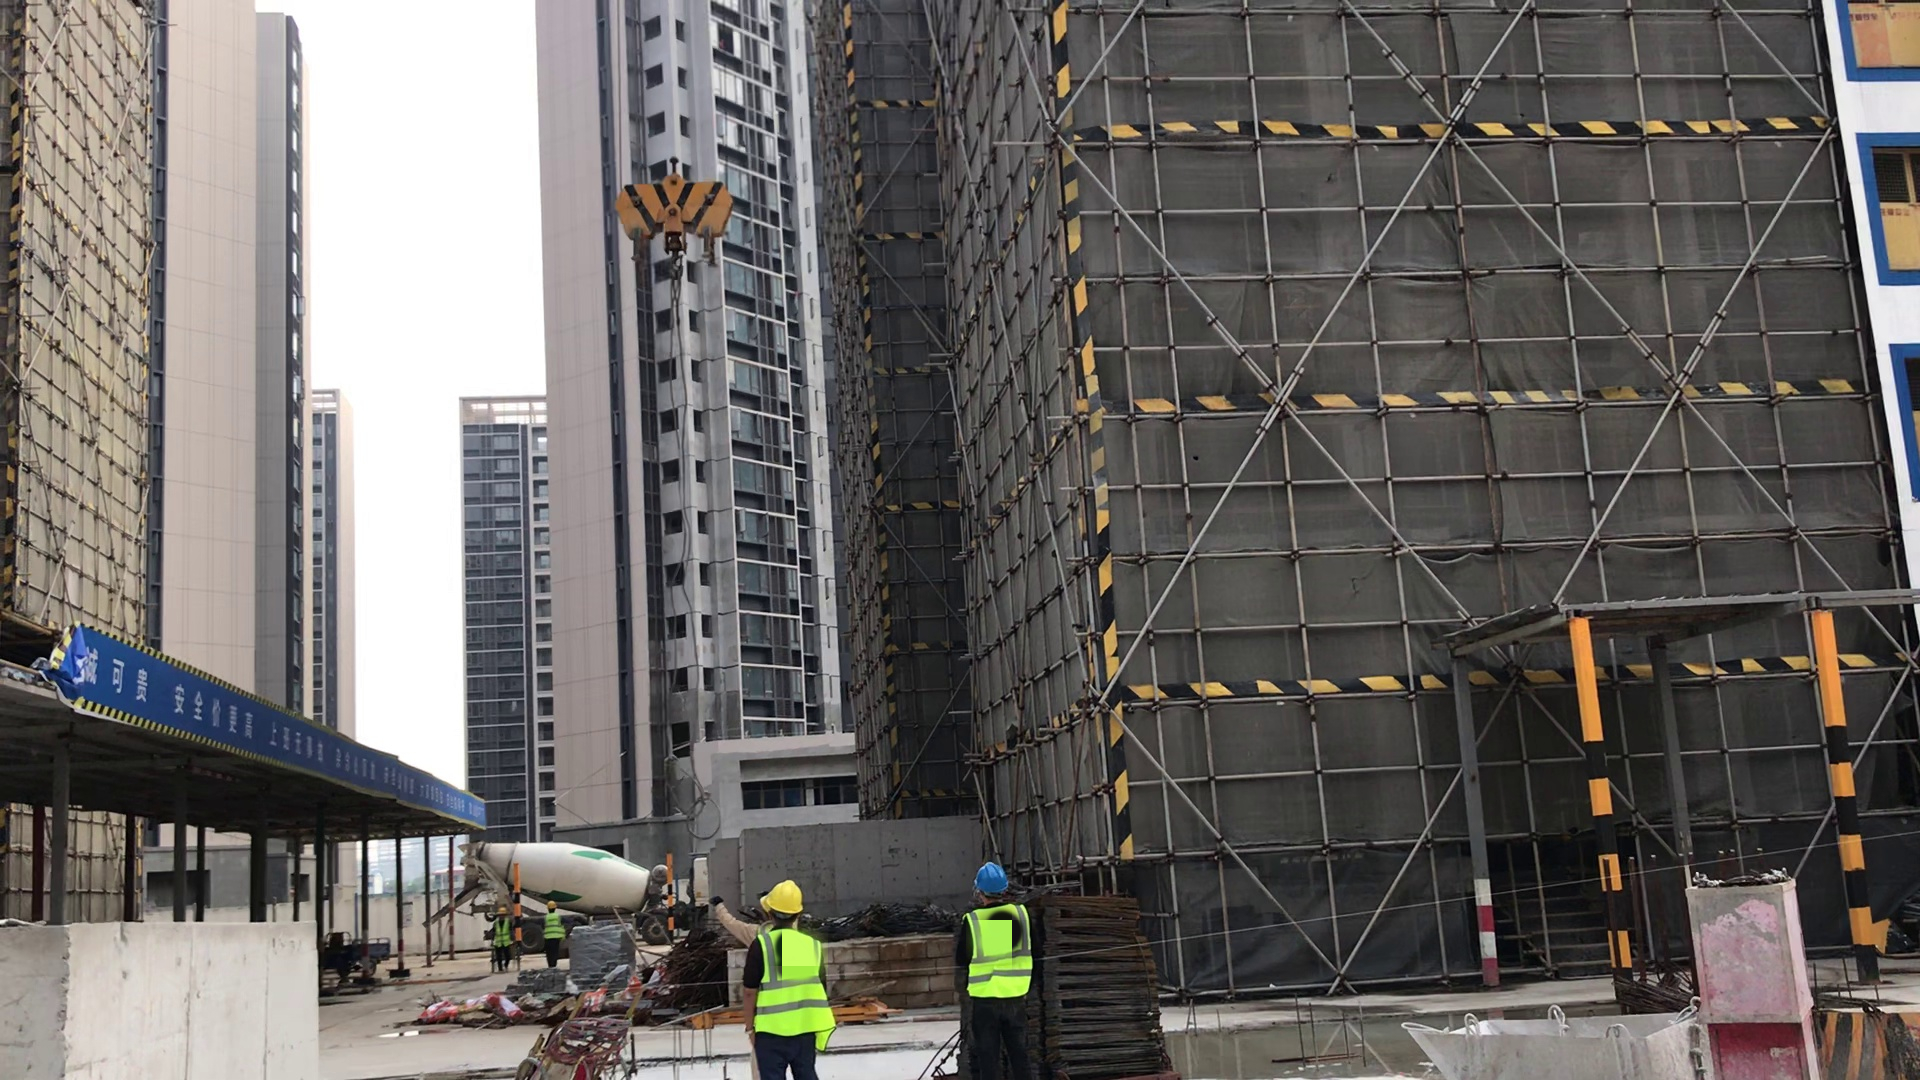handcart: (524, 993, 637, 1080)
helmet: (759, 877, 802, 915), (973, 860, 1008, 896)
hook: (613, 174, 732, 285)
hopper: (1406, 1008, 1690, 1080)
person: (741, 881, 834, 1080), (957, 862, 1035, 1080), (539, 900, 565, 968), (491, 907, 515, 973)
rebar: (1039, 895, 1171, 1080)
slogan: (74, 623, 485, 835)
vest: (754, 929, 838, 1039), (966, 908, 1029, 996), (543, 913, 564, 940), (494, 917, 513, 947)
